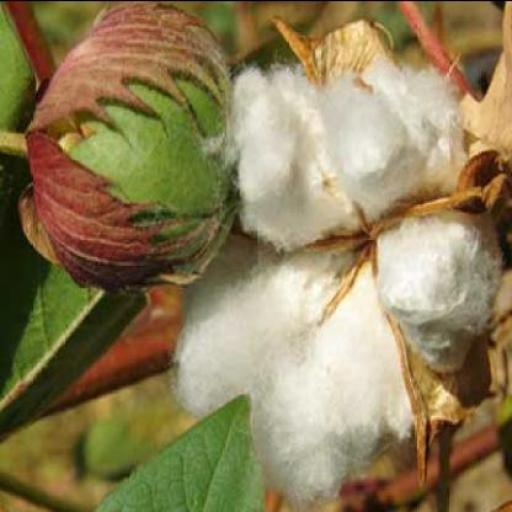cotton_ready: (171, 46, 510, 510)
